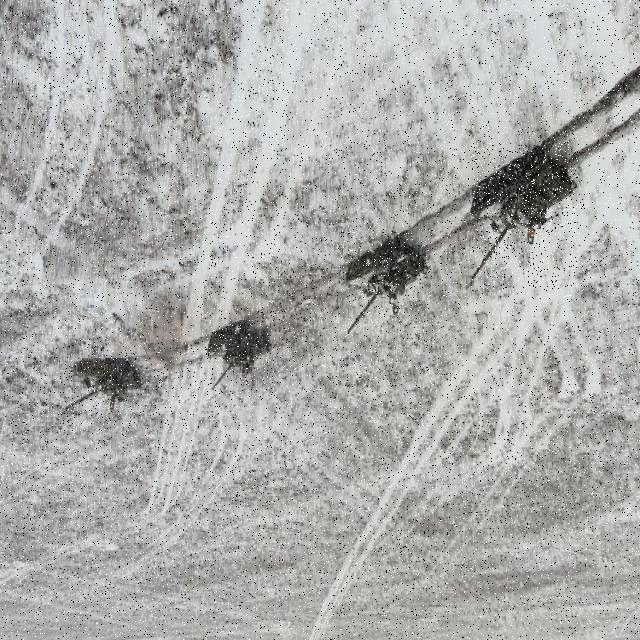MIL_MBT: (472, 139, 578, 289), (341, 229, 429, 345), (59, 350, 145, 425), (205, 310, 274, 398)
